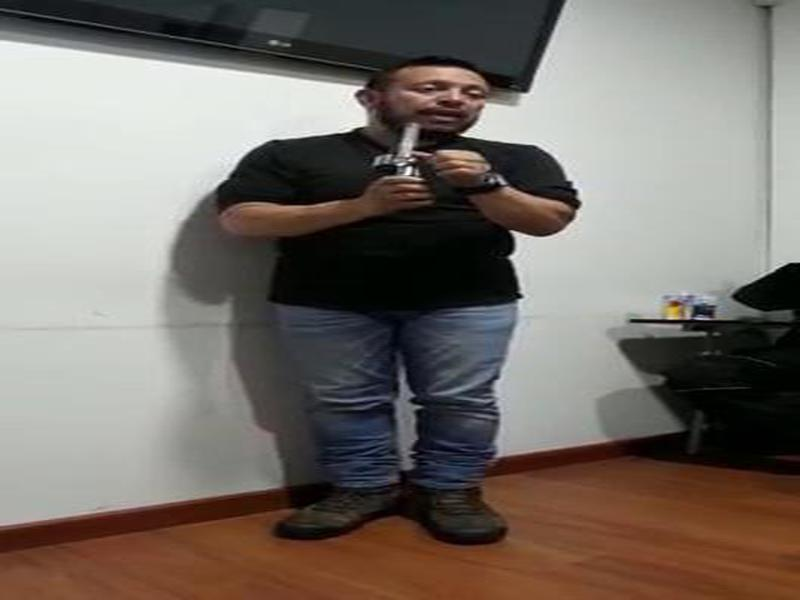Revolver: (371, 106, 452, 214)
